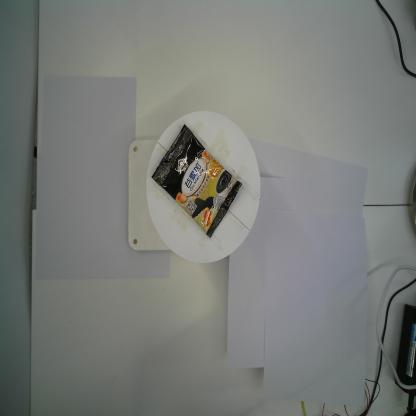Instant Drink: (151, 124, 242, 239)
